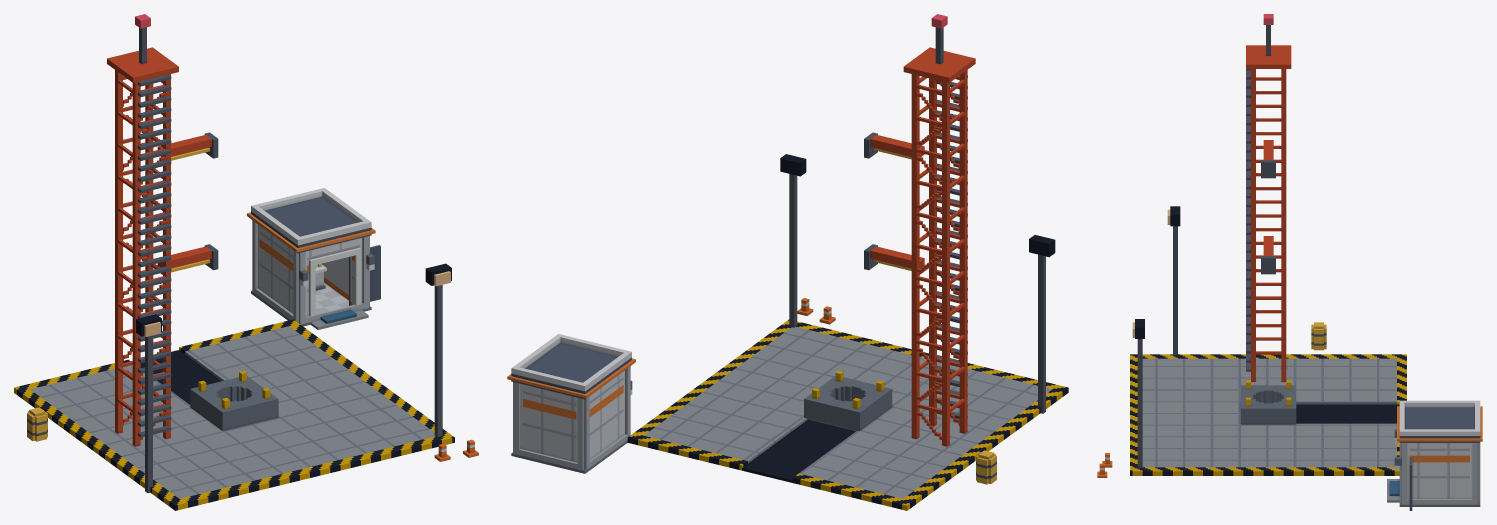
Rendered from pad_e3_l1.glb.
The picture shows the model from 3 angles, left to right: view 1: azimuth 30°, elevation 25°; view 2: azimuth 150°, elevation 25°; view 3: azimuth 270°, elevation 25°; orthographic projection. The views are drawn at different scales.
Visible parts, largest first — view 1: Base, CutRoof, CutPZ, CutNX; view 2: Base, CutRoof, CutNZ, CutNX; view 3: Base, CutRoof, CutPX, CutPZ, CutNZ.
Part boxes in pixels (<box>): Base: <box>14,14,478,510</box>; CutRoof: <box>247,188,375,253</box>; CutPZ: <box>293,236,380,300</box>; CutNX: <box>259,225,293,294</box>; Base: <box>511,14,1068,510</box>; CutRoof: <box>507,334,635,399</box>; CutNZ: <box>513,382,589,446</box>; CutNX: <box>589,371,623,440</box>; Base: <box>1097,14,1480,510</box>; CutRoof: <box>1397,400,1482,442</box>; CutPX: <box>1409,443,1469,482</box>; CutPZ: <box>1394,429,1412,490</box>; CutNZ: <box>1470,443,1480,483</box>.
Size of the model in its own units: 15.9 by 15.9 by 15.3.
